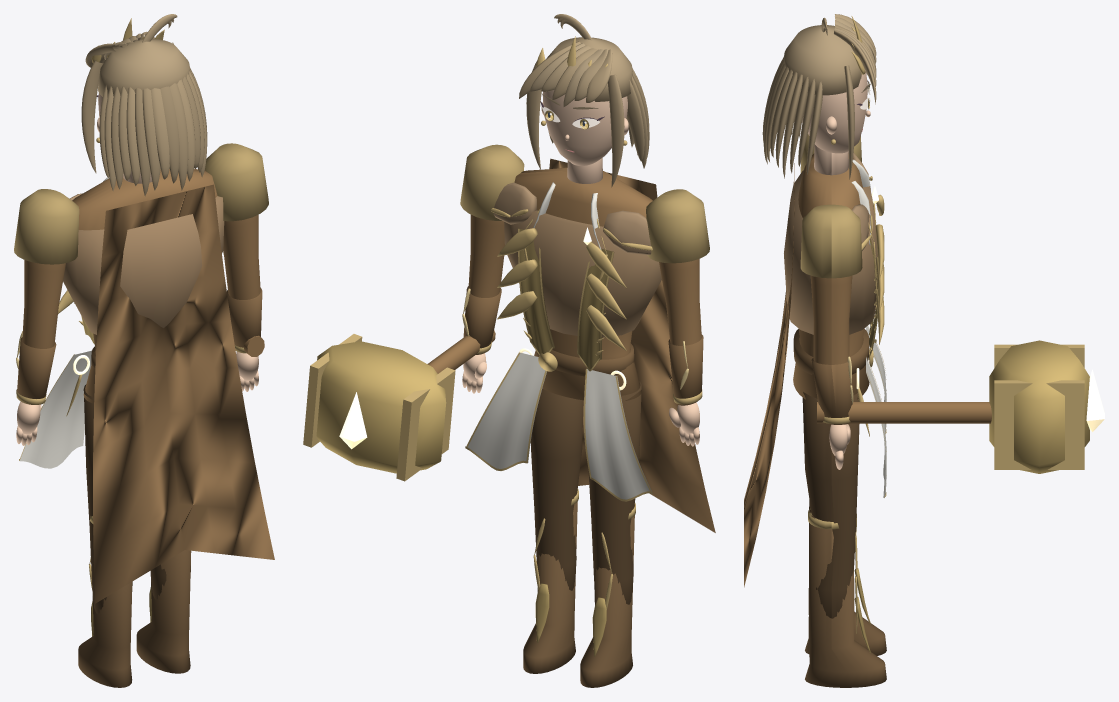
File: character_04.glb
3 views of the same model, side by side, from view 1: azimuth 30°, elevation 25°; view 2: azimuth 150°, elevation 25°; view 3: azimuth 270°, elevation 25° (orthographic). The views are drawn at different scales.
Visible parts, largest first — view 1: _MeshInstance3D_1337, _MeshInstance3D_1323, _MeshInstance3D_1374, _MeshInstance3D_1349, _MeshInstance3D_1324, _MeshInstance3D_1344, _MeshInstance3D_1339, _MeshInstance3D_1354, _MeshInstance3D_1375, _MeshInstance3D_1319, _MeshInstance3D_1376, _MeshInstance3D_1352 (+6 smaller); view 2: _MeshInstance3D_1356, _MeshInstance3D_1337, _MeshInstance3D_1323, _MeshInstance3D_1348, _MeshInstance3D_1319, _MeshInstance3D_1374, _MeshInstance3D_1324, _MeshInstance3D_1326, _MeshInstance3D_1338, _MeshInstance3D_1322, _MeshInstance3D_1349, _MeshInstance3D_1339 (+20 smaller); view 3: _MeshInstance3D_1356, _MeshInstance3D_1348, _MeshInstance3D_1374, _MeshInstance3D_1352, _MeshInstance3D_1349, _MeshInstance3D_1323, _MeshInstance3D_1359, _MeshInstance3D_1354, _MeshInstance3D_1337, _MeshInstance3D_1319, _MeshInstance3D_1361, _MeshInstance3D_1353 (+8 smaller).
Boxes of the visible parts, x1,y1,x2,y2 form: _MeshInstance3D_1337: (93, 184, 274, 603); _MeshInstance3D_1323: (63, 196, 224, 334); _MeshInstance3D_1374: (81, 14, 206, 191); _MeshInstance3D_1349: (136, 550, 191, 673); _MeshInstance3D_1324: (19, 350, 91, 468); _MeshInstance3D_1344: (14, 189, 79, 264); _MeshInstance3D_1339: (78, 527, 132, 687); _MeshInstance3D_1354: (205, 143, 268, 221); _MeshInstance3D_1375: (99, 73, 204, 190); _MeshInstance3D_1319: (72, 169, 217, 403); _MeshInstance3D_1376: (111, 68, 207, 196); _MeshInstance3D_1352: (223, 214, 264, 356); _MeshInstance3D_1356: (316, 341, 446, 473); _MeshInstance3D_1337: (549, 158, 715, 532); _MeshInstance3D_1323: (504, 210, 661, 337); _MeshInstance3D_1348: (530, 389, 583, 590); _MeshInstance3D_1319: (514, 167, 652, 400); _MeshInstance3D_1374: (519, 14, 647, 187); _MeshInstance3D_1324: (585, 369, 652, 499); _MeshInstance3D_1326: (467, 352, 546, 468); _MeshInstance3D_1338: (588, 381, 641, 604); _MeshInstance3D_1322: (490, 208, 652, 371); _MeshInstance3D_1349: (523, 502, 577, 673); _MeshInstance3D_1339: (580, 504, 634, 687); _MeshInstance3D_1356: (989, 340, 1089, 473); _MeshInstance3D_1348: (802, 392, 859, 618); _MeshInstance3D_1374: (765, 14, 876, 179); _MeshInstance3D_1352: (810, 275, 991, 424); _MeshInstance3D_1349: (805, 509, 886, 687); _MeshInstance3D_1323: (784, 170, 877, 334); _MeshInstance3D_1359: (823, 344, 1084, 469); _MeshInstance3D_1354: (800, 204, 862, 278); _MeshInstance3D_1337: (744, 163, 794, 587); _MeshInstance3D_1319: (793, 153, 869, 404); _MeshInstance3D_1361: (802, 70, 870, 153); _MeshInstance3D_1353: (811, 358, 852, 417).
Size of the model in its own units: 1.31 by 2.73 by 1.36.
